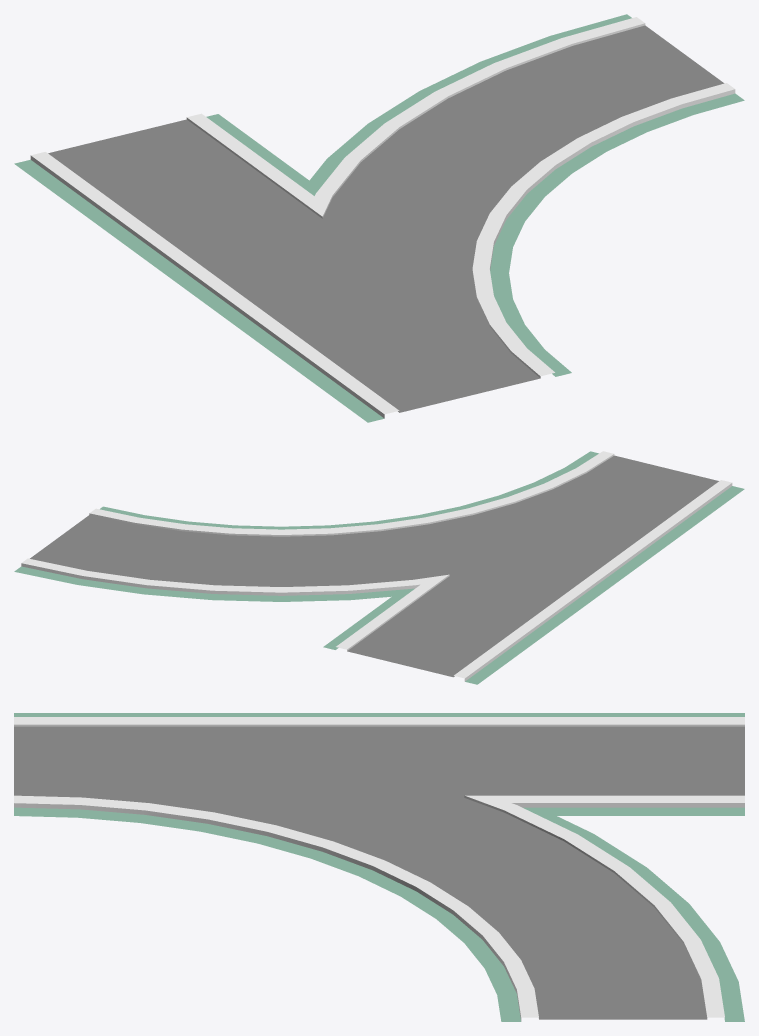
The model's file is kenney-racing-road-split-larger.glb.
3 views of the same model, one above another, from view 1: azimuth 30°, elevation 25°; view 2: azimuth 150°, elevation 25°; view 3: azimuth 270°, elevation 25° (orthographic). The views are drawn at different scales.
Visible parts, largest first — view 1: roadSplitLarger(Clone); view 2: roadSplitLarger(Clone); view 3: roadSplitLarger(Clone).
Boxes of the visible parts, box(x1,y1,x2,y2) form: roadSplitLarger(Clone): box(14, 14, 744, 422); roadSplitLarger(Clone): box(14, 451, 744, 684); roadSplitLarger(Clone): box(14, 713, 744, 1021).
Bounding box in the file's own units: 3 × 0.0201 × 3.
